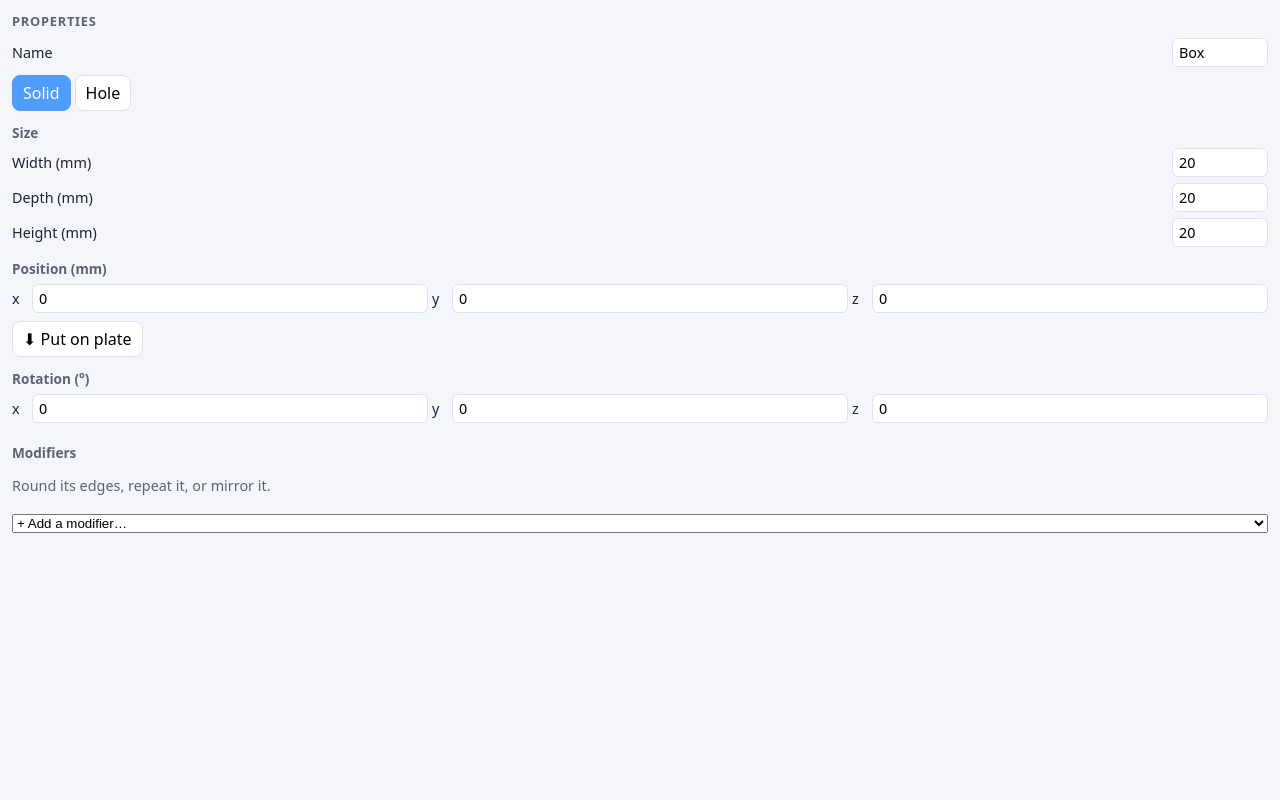
PropertiesPanel › shows a broken formula's problem and keeps the old size (Review Focus 1)
Step 1. Replace the text in the field with test id "param-width" with "wal * 10" → (1220, 162), box [1172,148,1268,177]
Then press Enter
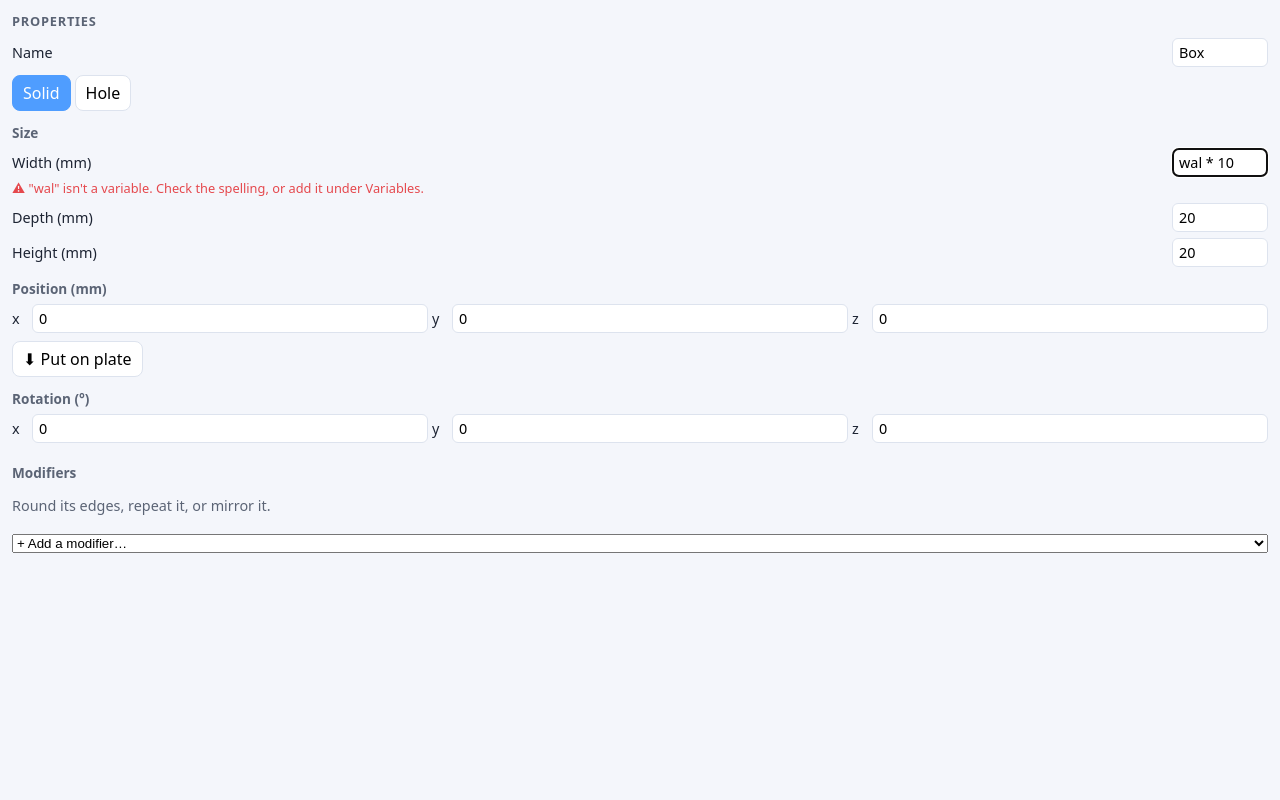
Expected: the text with test id "param-width-error" shows "\"wal\" isn't a variable", [28,179,424,197]
